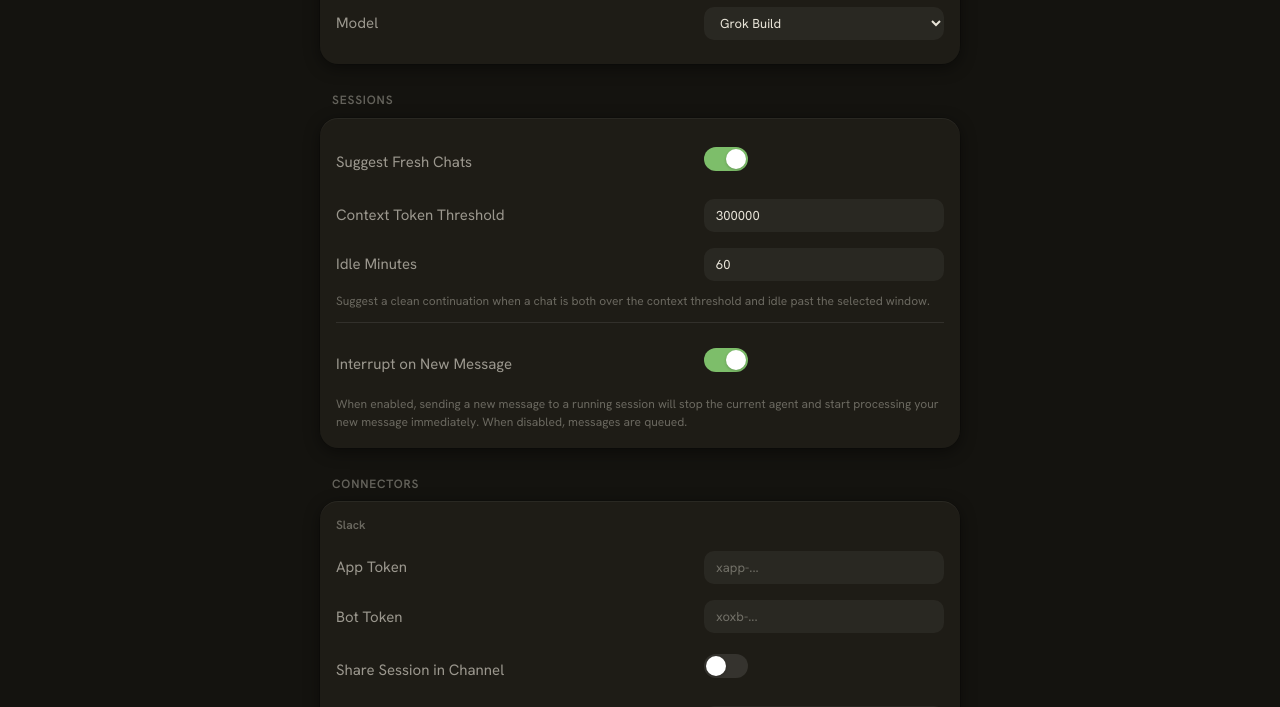
a hand edit under an open page › still shows the ordinary failure message for every other rejection
The width and height of the screenshot is (1280, 707).
Step 1. Click the switch named "Interrupt on new message" → (726, 360), box [704, 344, 748, 378]
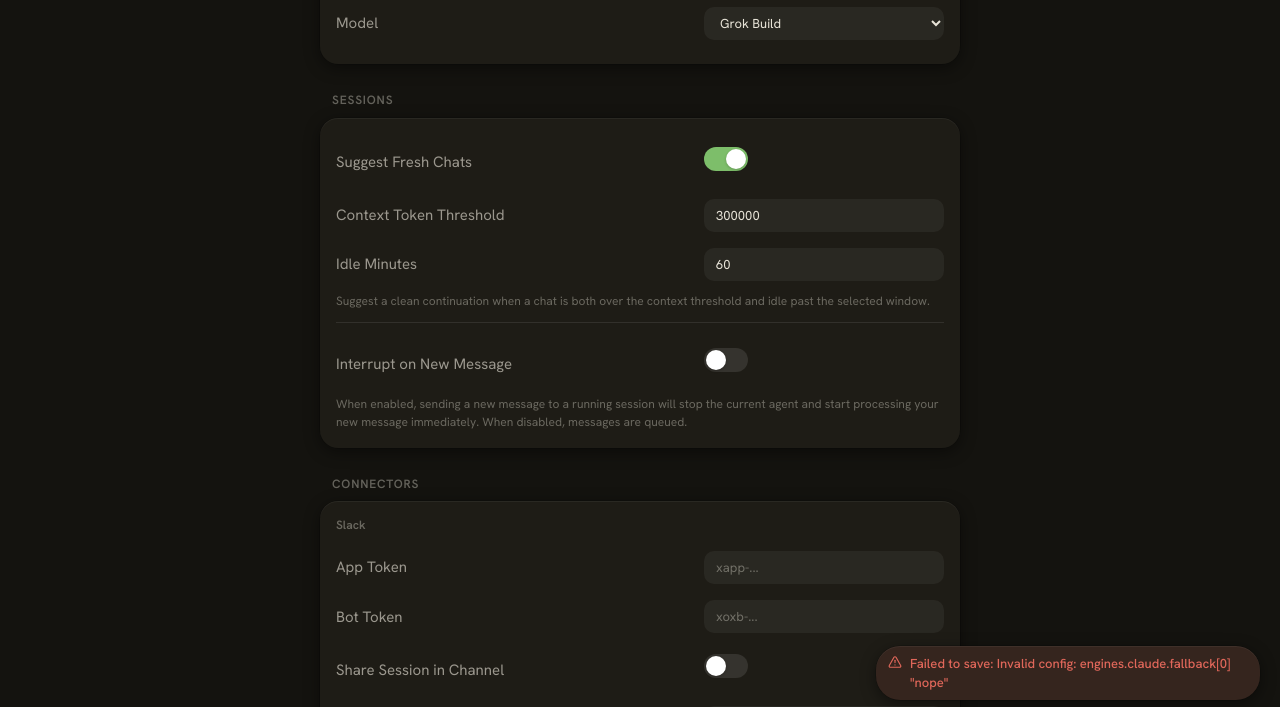
Result: the text "Failed to save: Invalid config" is shown at [910, 655, 1231, 691]
